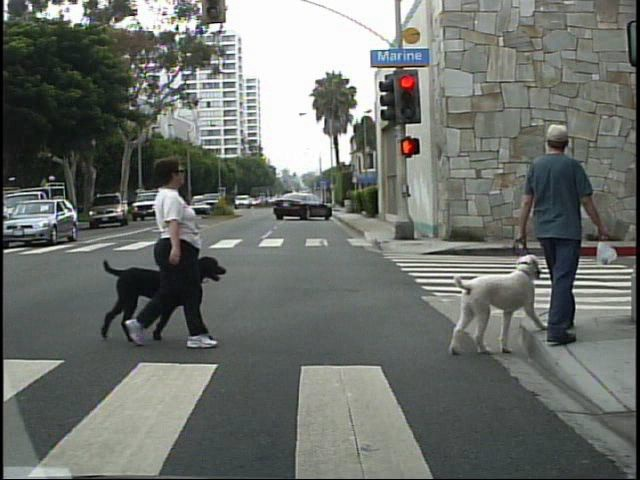person: (514, 114, 610, 351), (126, 143, 226, 347)
